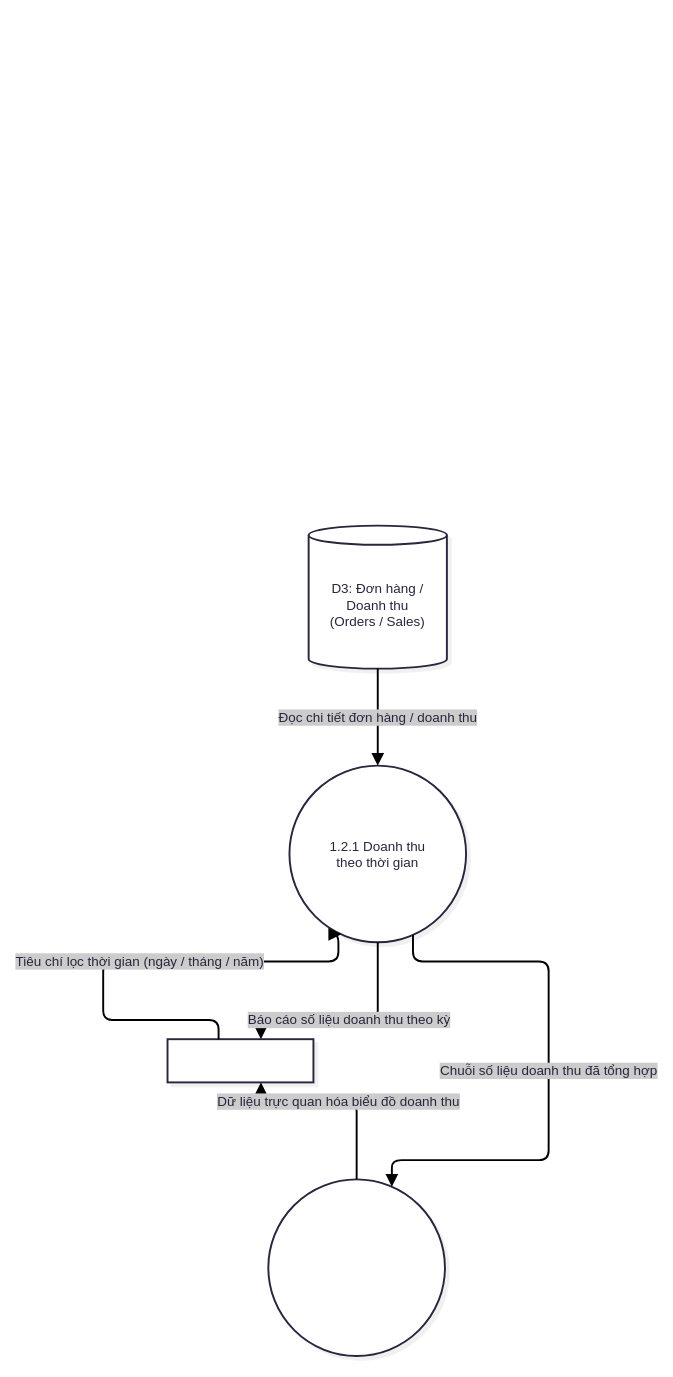
The diagram is 673 pixels wide and 1377 high, and some of its shapes have lost their labels. The centre of each missing label's shape, as x and y in pixels:
"1.2.2 Biểu đồ doanh thu" belongs at point 358,1269.
"Quản lý kho" belongs at point 242,1062.
